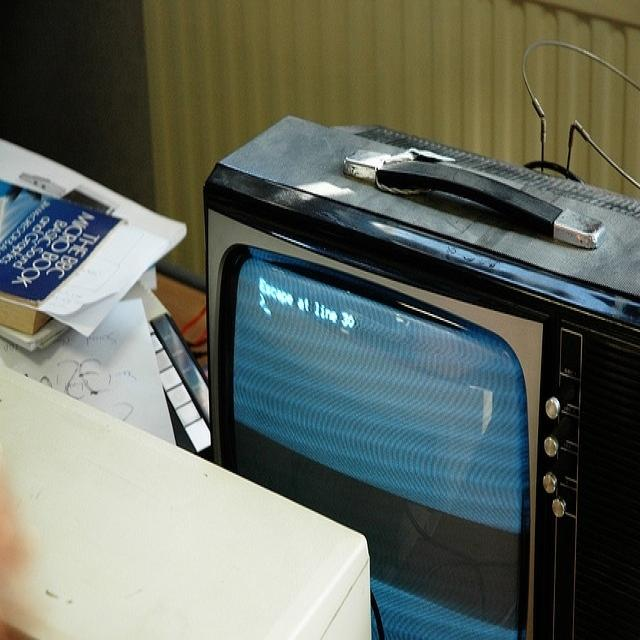E-waste: (200, 82, 640, 640)
